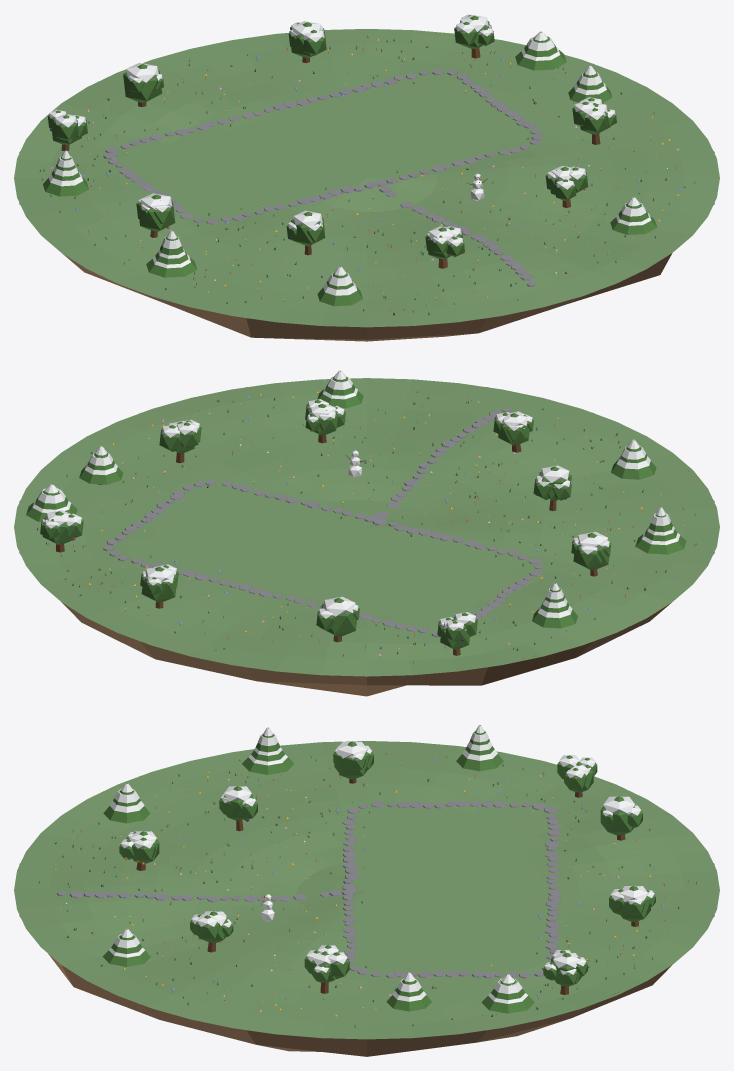
File: island.glb
3 views of the same model, one above another, from view 1: azimuth 30°, elevation 25°; view 2: azimuth 150°, elevation 25°; view 3: azimuth 270°, elevation 25° (orthographic).
Parts seen in each view (by area): view 1: WALK_island_top, PATH_stones, island_ground, GRASS_tufts, TREE_10_leaves, TREE_12_leaves, TREE_08_leaves, TREE_01_leaves, TREE_13_leaves, TREE_02_leaves, TREE_04_leaves, TREE_14_leaves (+13 smaller); view 2: WALK_island_top, island_ground, PATH_stones, GRASS_tufts, TREE_10_leaves, TREE_08_leaves, TREE_04_leaves, TREE_13_leaves, TREE_02_leaves, TREE_01_leaves, TREE_05_leaves, TREE_09_leaves (+13 smaller); view 3: WALK_island_top, island_ground, PATH_stones, GRASS_tufts, TREE_10_leaves, TREE_08_leaves, TREE_09_leaves, TREE_12_leaves, TREE_01_leaves, TREE_02_leaves, TREE_13_leaves, TREE_05_leaves (+15 smaller).
Part boxes in pixels (x1,y1,x2,y2): WALK_island_top: (14, 29, 719, 327); PATH_stones: (103, 69, 543, 286); island_ground: (19, 32, 714, 341); GRASS_tufts: (39, 35, 695, 315); TREE_10_leaves: (146, 230, 197, 277); TREE_12_leaves: (515, 31, 566, 70); TREE_08_leaves: (123, 64, 163, 103); TREE_01_leaves: (136, 194, 175, 231); TREE_13_leaves: (43, 151, 88, 196); TREE_02_leaves: (572, 98, 616, 134); TREE_04_leaves: (47, 110, 87, 145); TREE_14_leaves: (610, 197, 656, 234); WALK_island_top: (14, 378, 719, 676); island_ground: (19, 387, 714, 696); PATH_stones: (103, 408, 543, 637); GRASS_tufts: (36, 390, 696, 663); TREE_10_leaves: (635, 507, 686, 554); TREE_08_leaves: (316, 598, 359, 636); TREE_04_leaves: (437, 613, 477, 649); TREE_13_leaves: (532, 582, 577, 628); TREE_02_leaves: (159, 420, 201, 453); TREE_01_leaves: (571, 533, 611, 570); TREE_05_leaves: (40, 511, 83, 544); TREE_09_leaves: (140, 565, 178, 602); WALK_island_top: (14, 741, 719, 1039); island_ground: (19, 750, 714, 1056); PATH_stones: (57, 801, 561, 978); GRASS_tufts: (38, 755, 696, 1027); TREE_10_leaves: (242, 727, 294, 774); TREE_08_leaves: (600, 796, 642, 835); TREE_09_leaves: (609, 886, 655, 921); TREE_12_leaves: (481, 979, 534, 1013); TREE_01_leaves: (333, 741, 373, 779); TREE_02_leaves: (304, 945, 349, 982); TREE_13_leaves: (456, 725, 503, 771); TREE_05_leaves: (543, 950, 587, 986).
Bounding box in the file's own units: 50 × 14.57 × 50.
